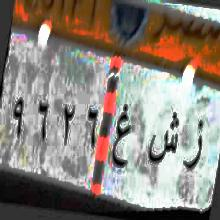2: (61, 97, 77, 160)
6: (85, 102, 99, 155), (36, 98, 50, 148)
9: (11, 91, 25, 150)
ghayn: (111, 98, 132, 188)
sheen: (146, 102, 179, 180)
zay: (182, 111, 206, 183)
